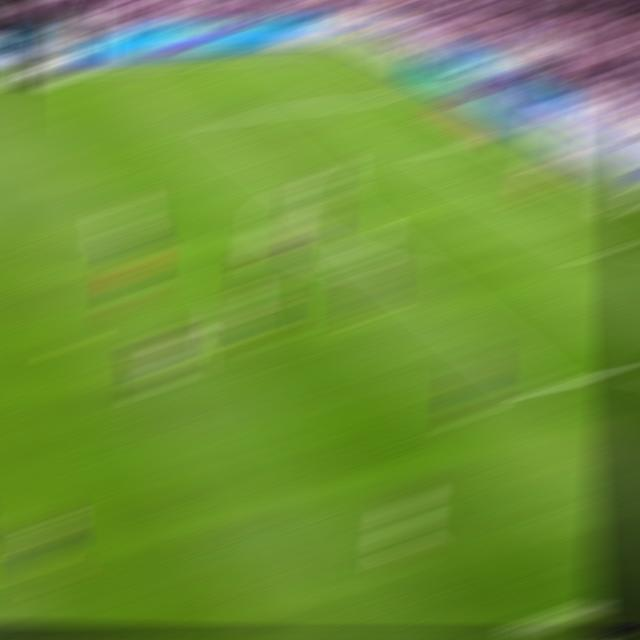bigarea_bottom_inner: (524, 376, 560, 399)
bigarea_top_inner: (208, 111, 240, 123)
bigarea_top_outter: (407, 84, 438, 93)
bottom_arc_area_intersection: (385, 263, 420, 277)
corner: (330, 42, 361, 47)
smallarea_bottom_inner: (583, 244, 617, 259)
smallarea_top_inner: (419, 141, 452, 152)
top_arc_area_intersection: (279, 174, 311, 184)
